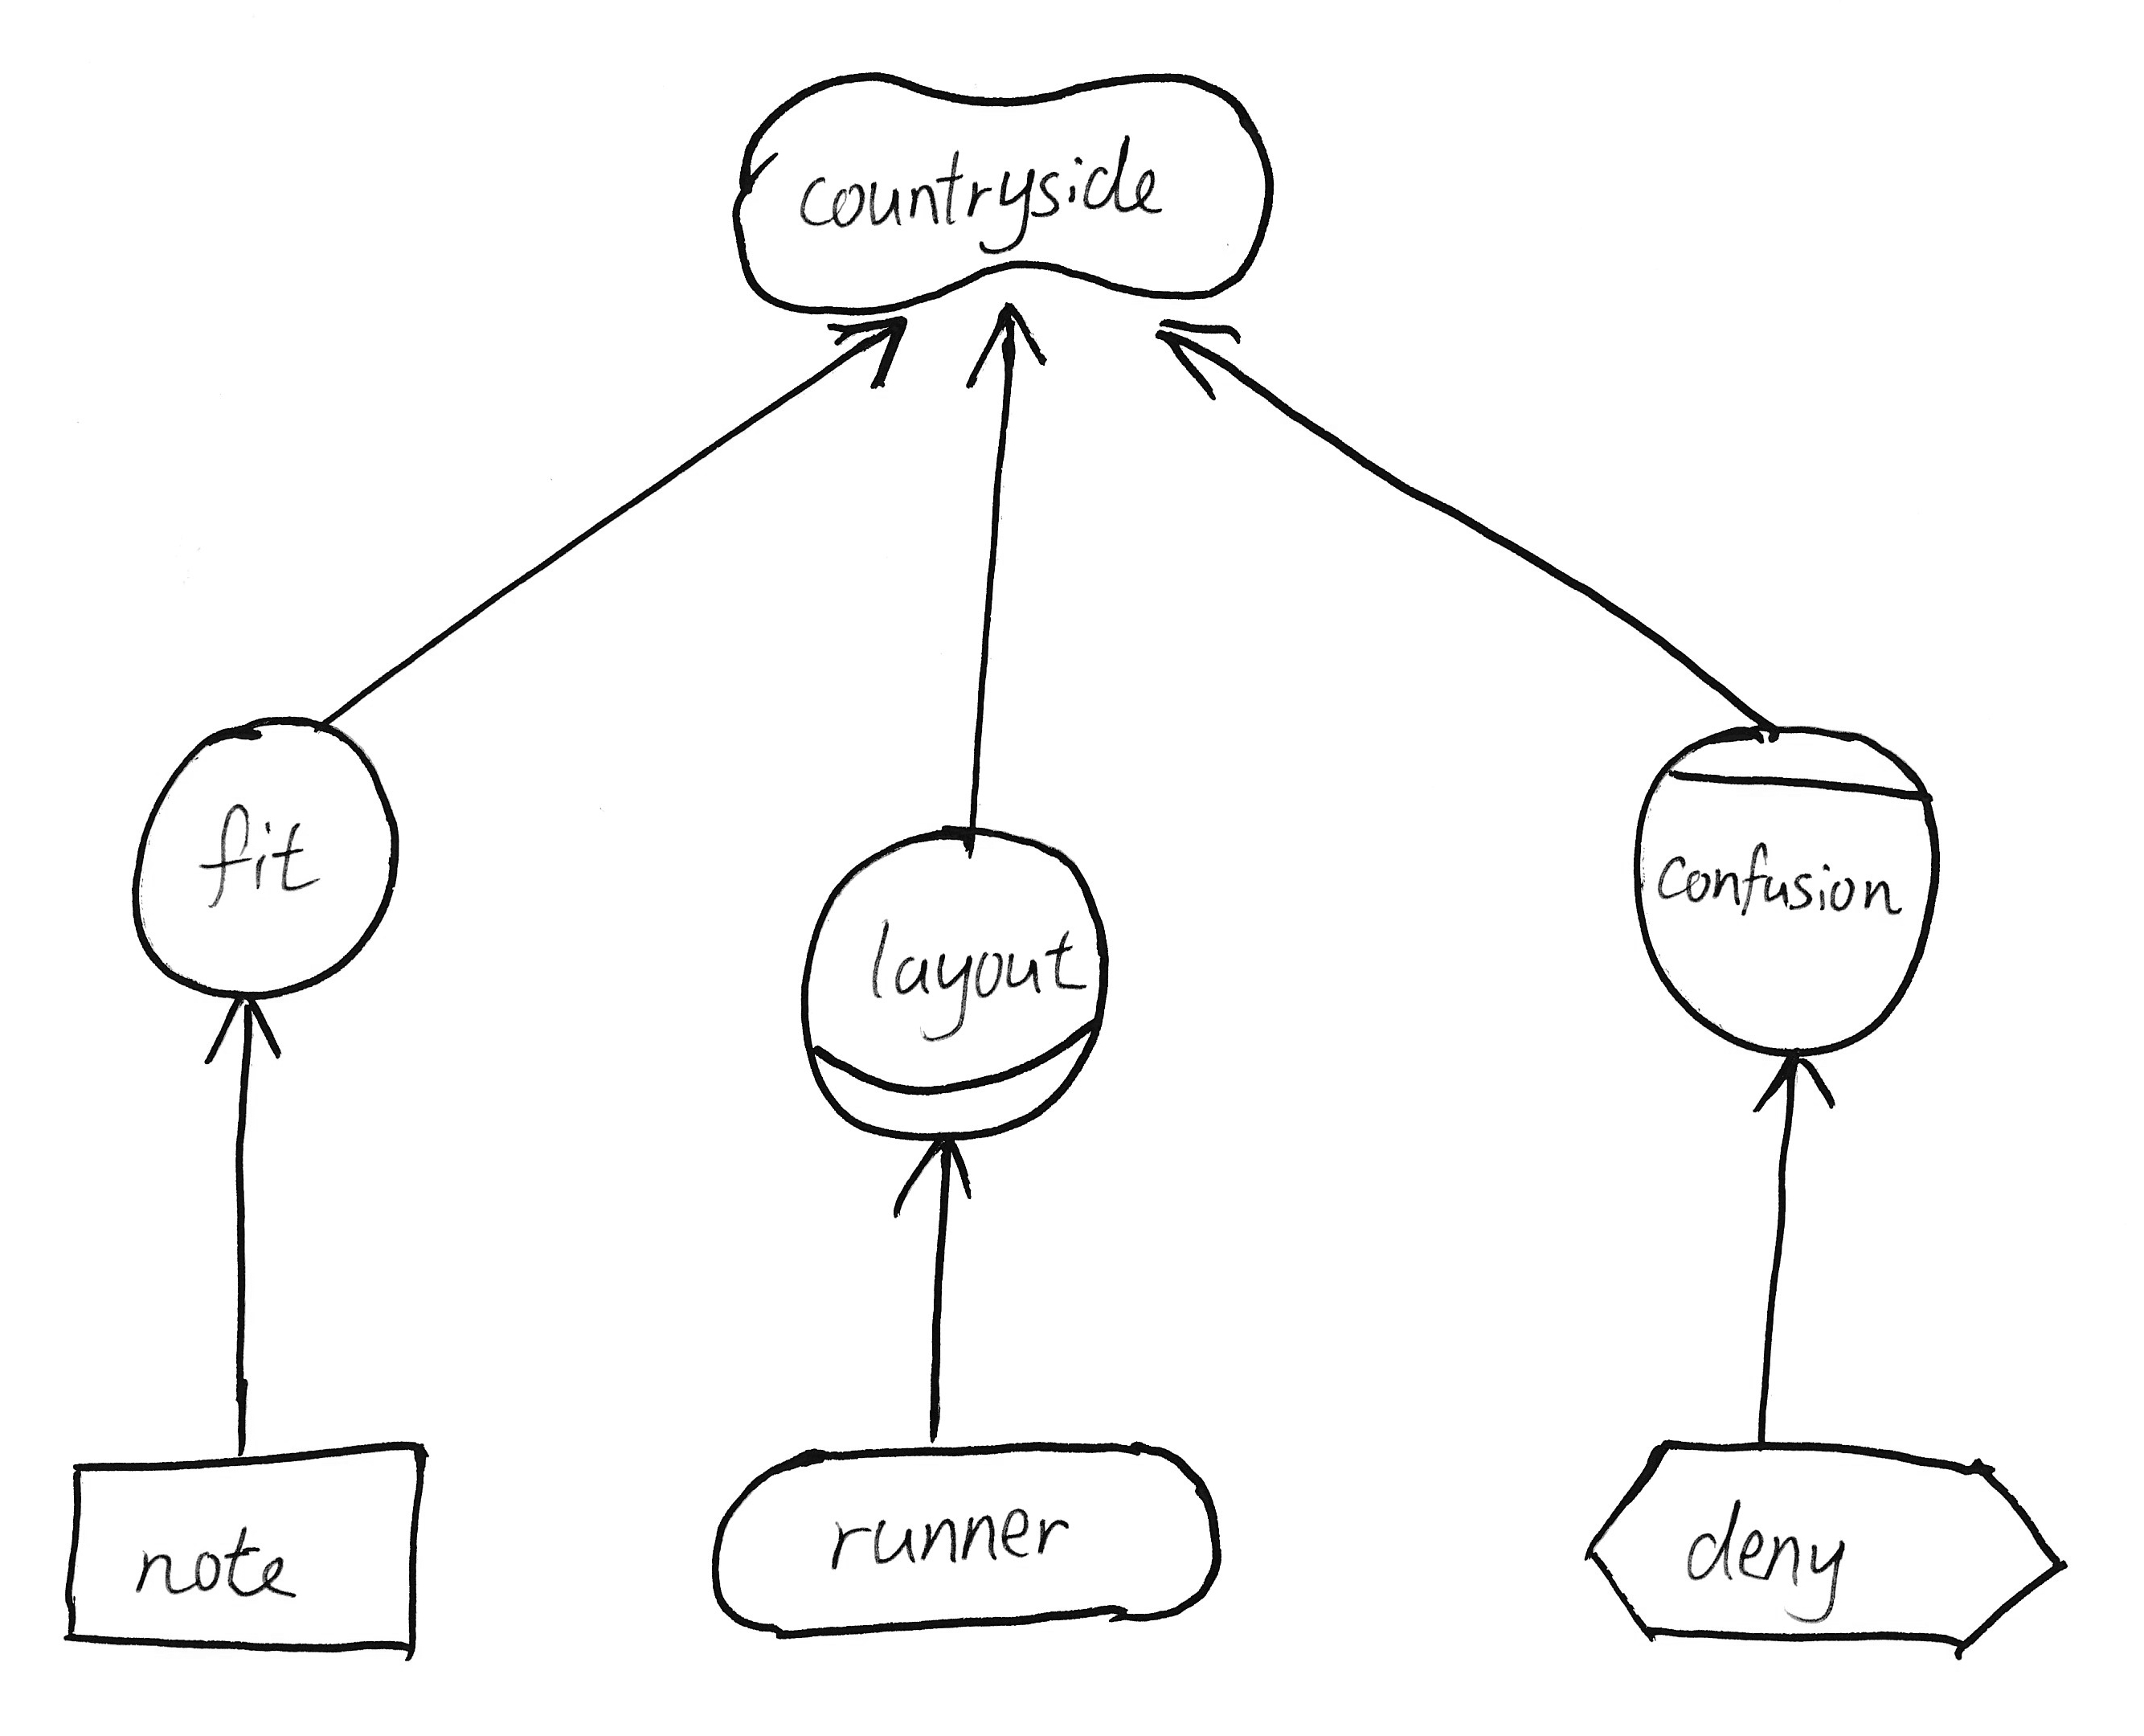actor: (110, 701, 418, 1015)
agent: (1609, 712, 1956, 1068)
arrow: (878, 1134, 990, 1236), (1145, 303, 1253, 407), (956, 292, 1055, 400), (816, 310, 917, 402), (193, 990, 296, 1077), (1742, 1049, 1848, 1123)
goal: (690, 1415, 1238, 1655)
quality: (722, 51, 1292, 342)
resource: (46, 1428, 455, 1672)
role: (784, 808, 1121, 1162)
task: (1563, 1422, 2089, 1676)
